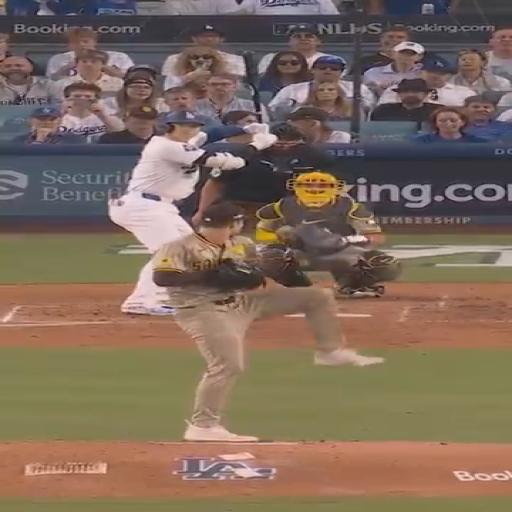bat: (242, 52, 263, 122)
